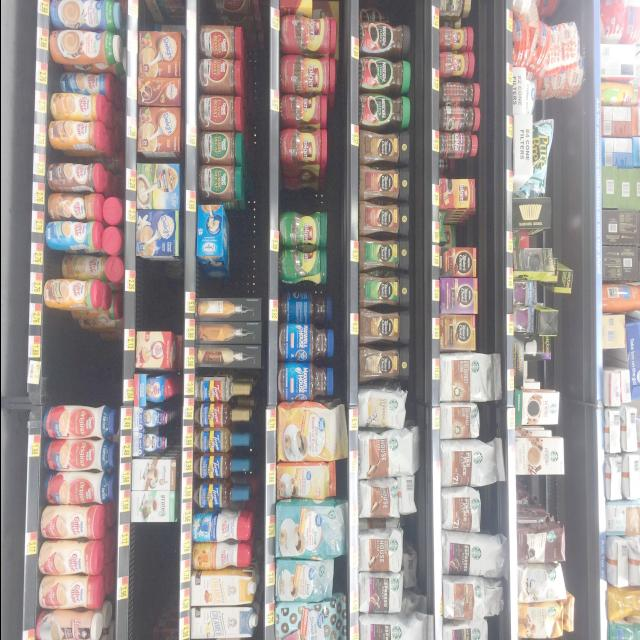empty_space: (130, 524, 174, 640), (44, 329, 112, 403), (135, 262, 181, 330), (280, 161, 324, 211), (136, 5, 184, 32), (195, 2, 240, 26), (199, 262, 225, 294), (515, 480, 555, 500), (439, 155, 471, 179), (364, 2, 408, 18), (446, 217, 470, 239)
